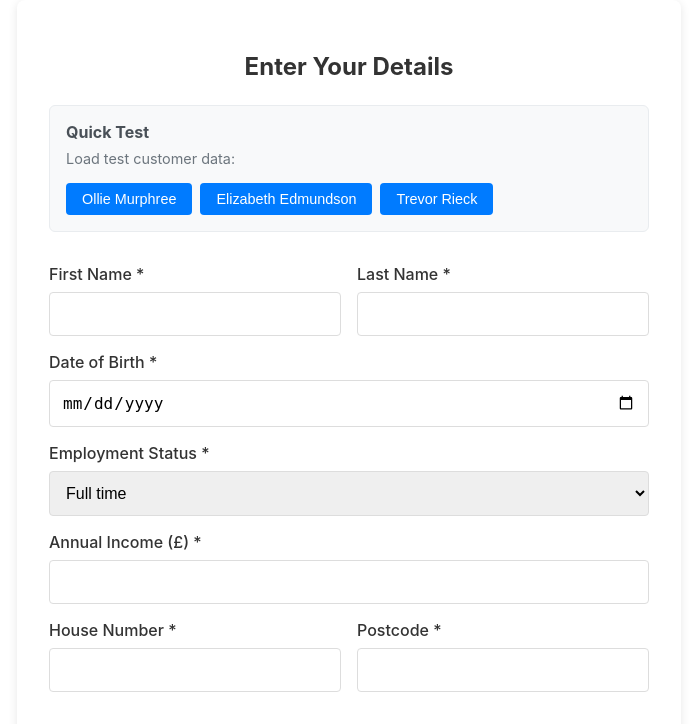
UserForm › loads test customer data when test customer button is clicked
What coordinates should you click on to do the following:
click the button "Ollie Murphree"
I would click on:
 (129, 199)
Its box is [66, 183, 192, 215].
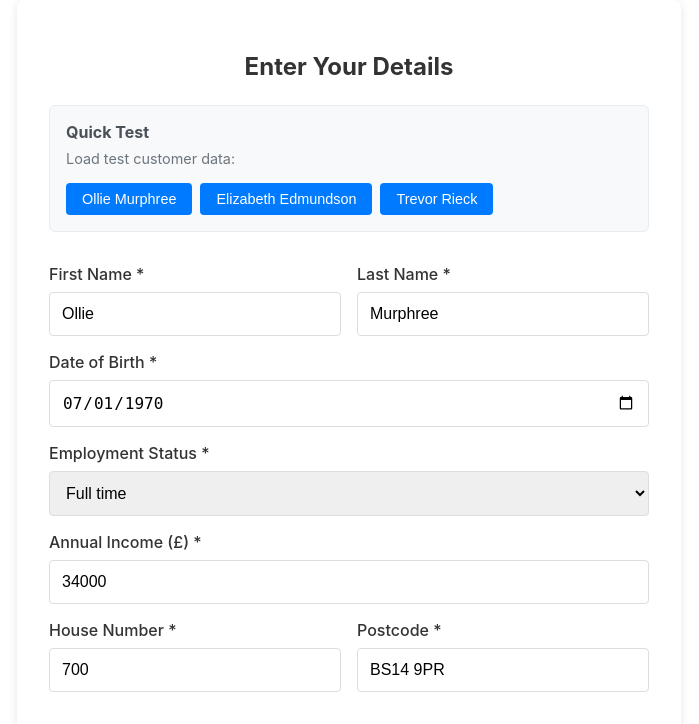
Expected: the field showing "Ollie" is shown, [49, 292, 341, 336]
Expected: the field showing "Murphree" is shown, [357, 292, 649, 336]
Expected: the number field showing "34000" is shown, [49, 560, 649, 604]
